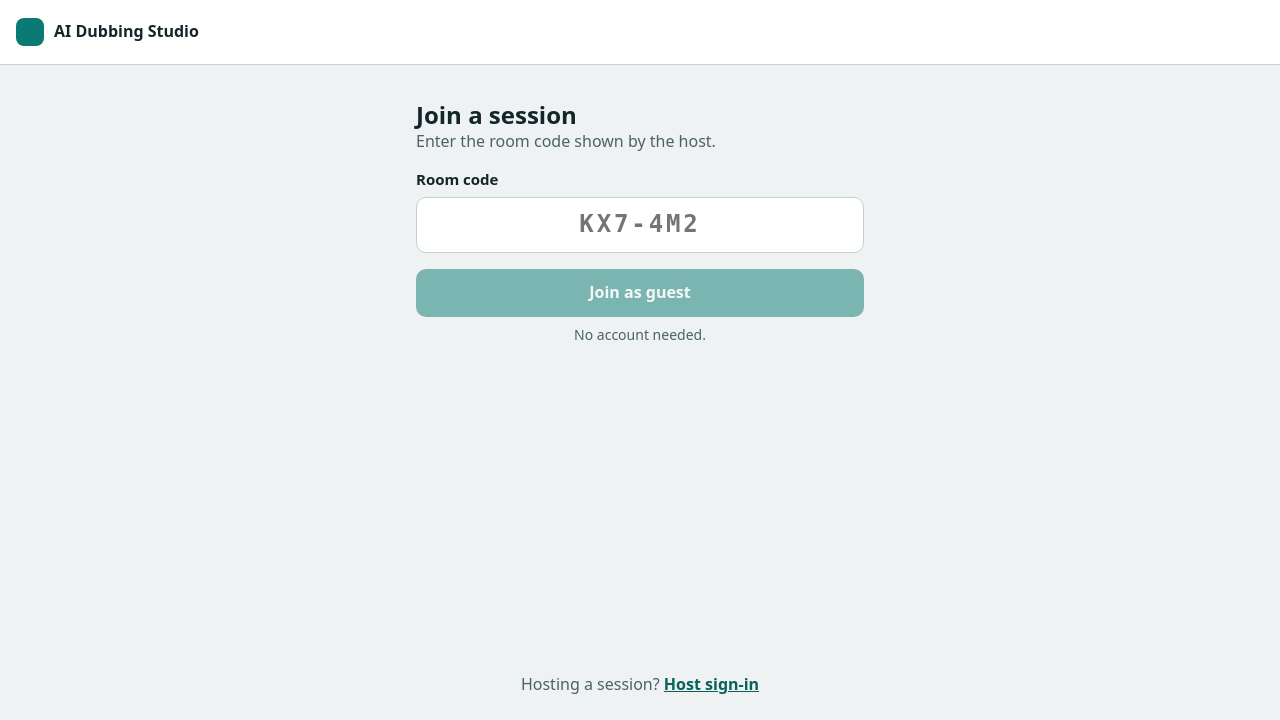
it: JoinPage › says so when the backend is unreachable
Type "kx74m2" into the field labelled "Room code" at (640, 225), box top-left (416, 197), bottom-right (864, 253)
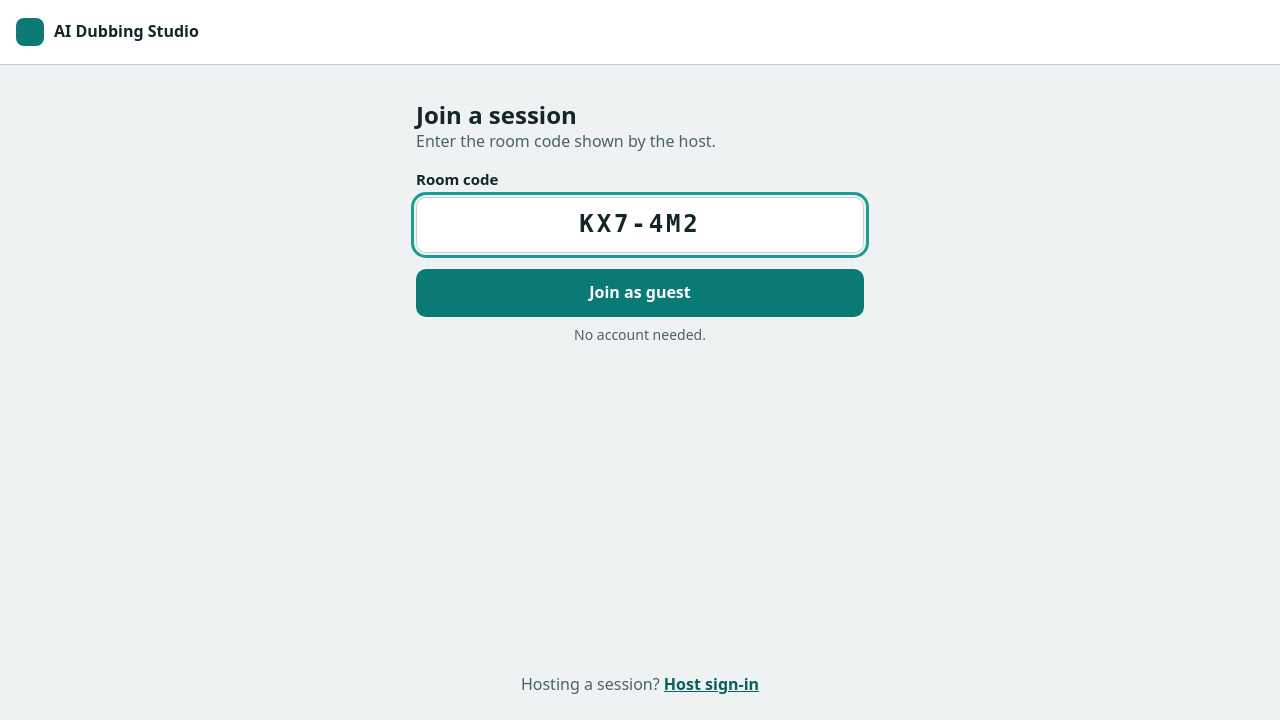
Click the button "Join as guest" at (640, 293), box top-left (416, 269), bottom-right (864, 317)
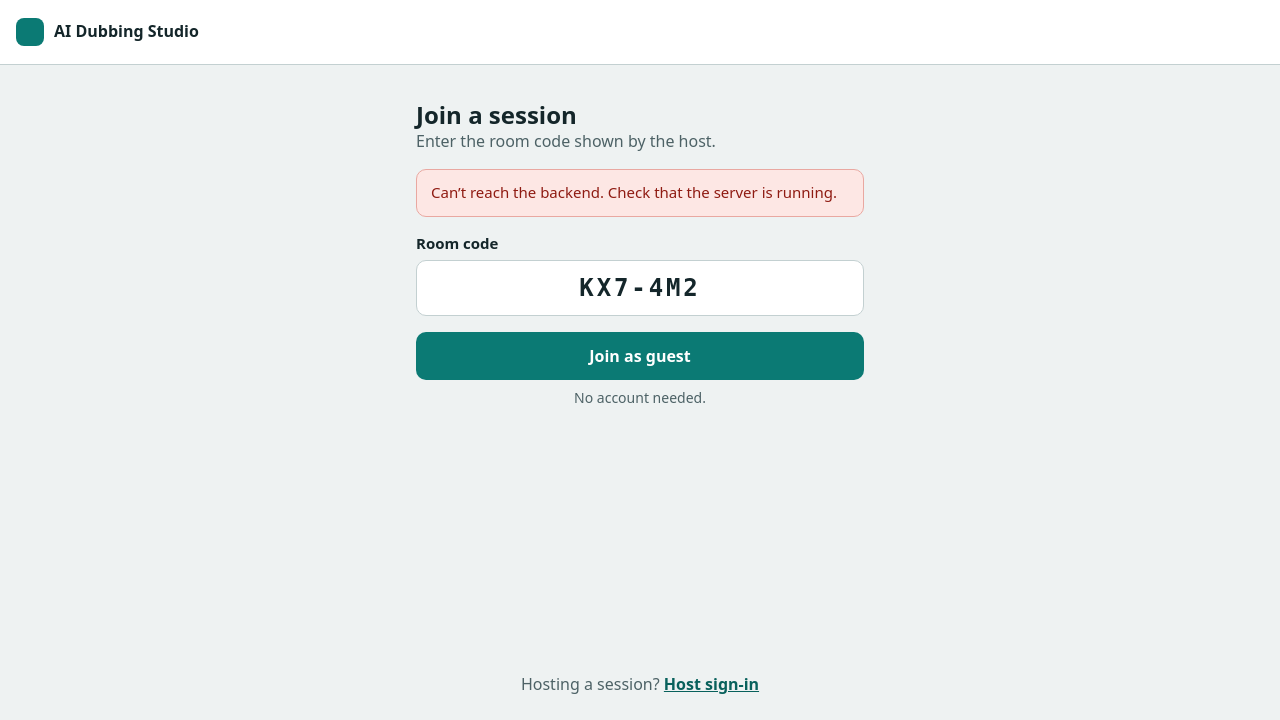
Check: the message shows "Can’t reach the backend", box top-left (431, 182), bottom-right (837, 202)
